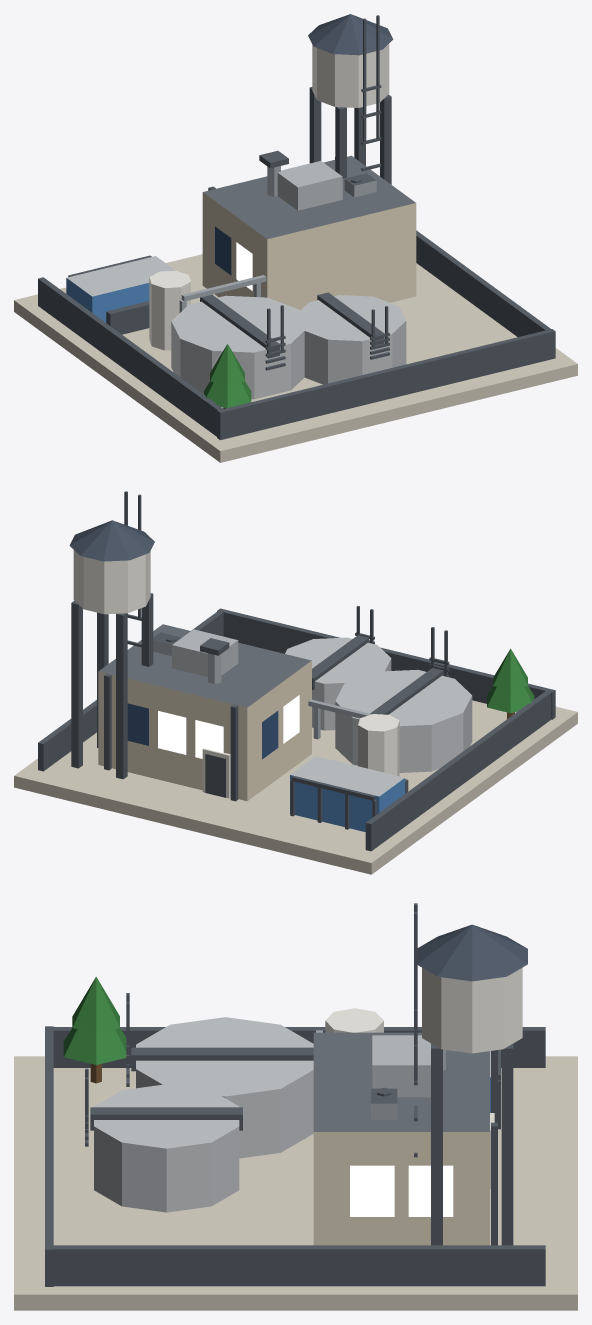
The picture shows the model from 3 angles, top to bottom: view 1: azimuth 30°, elevation 25°; view 2: azimuth 150°, elevation 25°; view 3: azimuth 270°, elevation 25°; orthographic projection. The views are drawn at different scales.
Parts seen in each view (by area): view 1: b34; view 2: b34; view 3: b34.
Part boxes in pixels (bbox=[...]): b34: bbox=[14, 14, 577, 462]; b34: bbox=[14, 491, 577, 874]; b34: bbox=[14, 903, 577, 1310].
Size of the model in its own units: 0.96 by 0.68 by 0.96.
